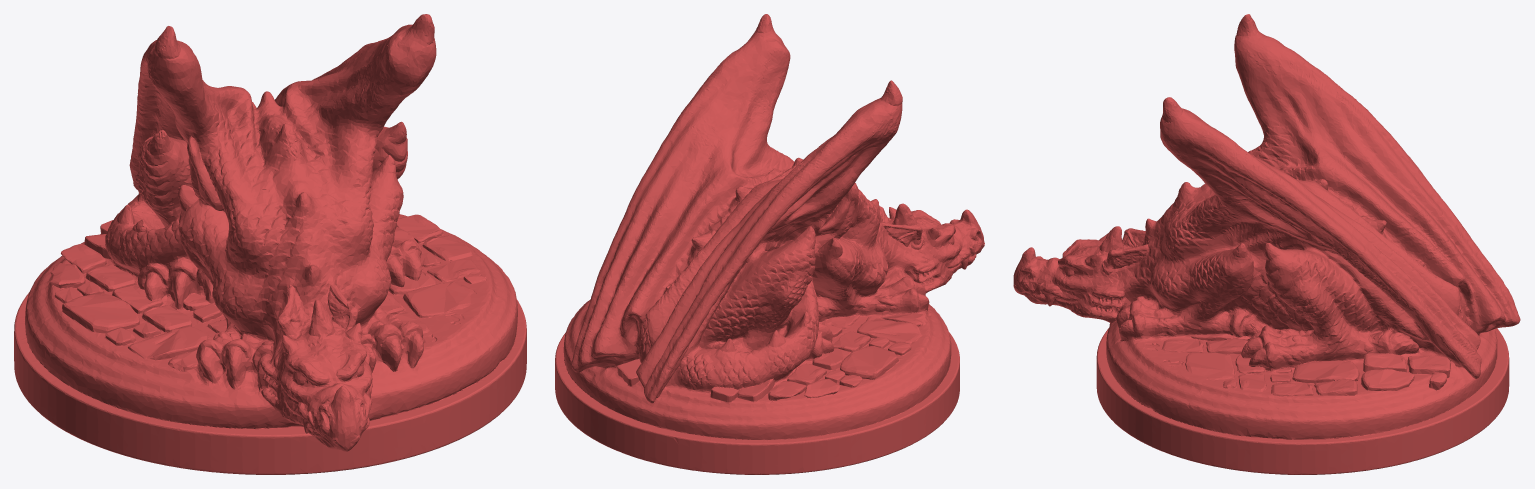
File: dragon.glb
3 renders of one model, left to right at view 1: azimuth 30°, elevation 25°; view 2: azimuth 150°, elevation 25°; view 3: azimuth 270°, elevation 25°, orthographic. The views are drawn at different scales.
Visible parts, largest first — view 1: dragon; view 2: dragon; view 3: dragon.
Boxes of the visible parts, <box> form: dragon: <box>14,14,526,474</box>; dragon: <box>555,14,984,474</box>; dragon: <box>1013,14,1520,474</box>.
Bounding box in the file's own units: 50.05 × 43 × 61.5.
